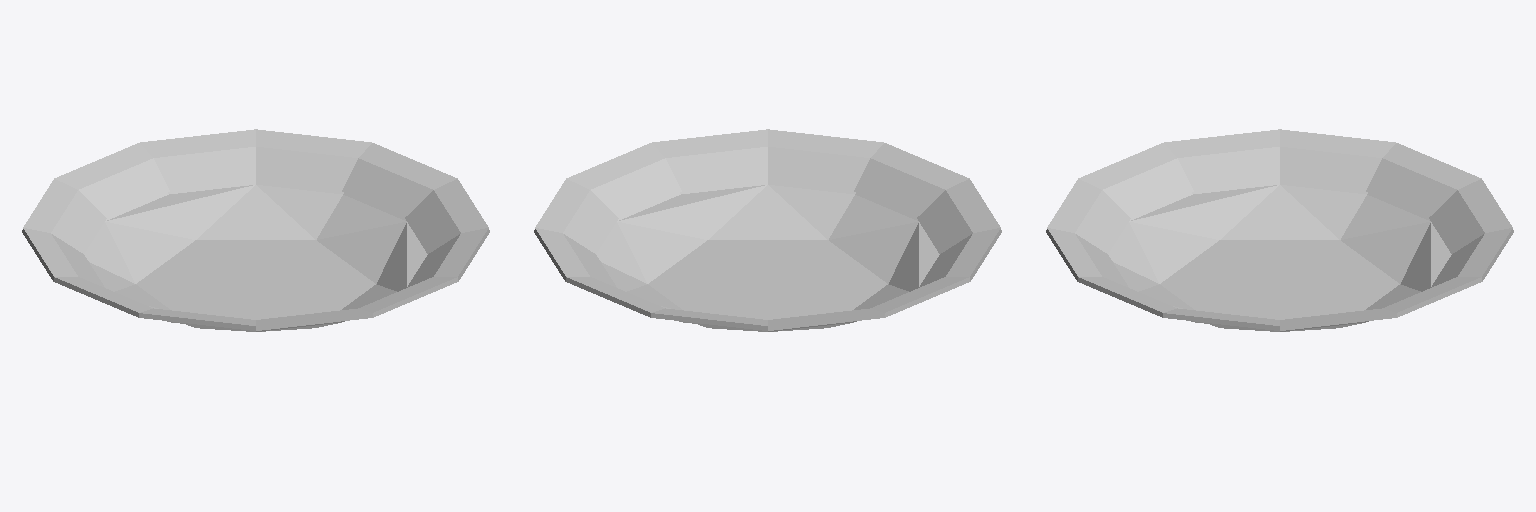
File: plate.obj
3 views of the same model, side by side, from view 1: azimuth 30°, elevation 25°; view 2: azimuth 150°, elevation 25°; view 3: azimuth 270°, elevation 25° (orthographic).
Parts seen in each view (by area): view 1: polySurface10; view 2: polySurface10; view 3: polySurface10.
Part boxes in pixels (x1,y1,x2,y2): polySurface10: (22, 129, 489, 331); polySurface10: (534, 129, 1001, 331); polySurface10: (1046, 129, 1513, 331).
Bounding box in the file's own units: 2.68 × 0.3569 × 2.68.